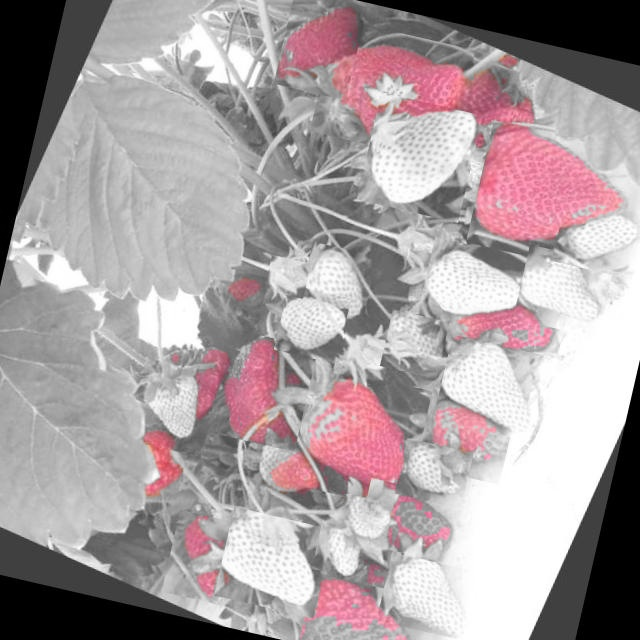ripe: (466, 118, 640, 275), (273, 360, 437, 510), (310, 18, 474, 163), (436, 276, 570, 384), (204, 328, 318, 452), (297, 572, 478, 640), (143, 333, 244, 434), (356, 478, 471, 564), (415, 388, 517, 484), (273, 0, 367, 100), (162, 509, 252, 607), (116, 417, 192, 504), (446, 57, 524, 124), (206, 265, 269, 320)
unripe: (357, 92, 482, 222), (214, 506, 333, 618), (433, 334, 548, 441), (417, 236, 531, 336), (376, 552, 487, 640), (512, 244, 614, 338), (126, 356, 220, 456), (551, 196, 640, 278), (298, 242, 378, 322), (274, 284, 351, 364), (394, 438, 474, 508), (379, 309, 449, 379), (334, 325, 399, 391), (310, 522, 370, 580), (334, 493, 394, 544), (264, 254, 310, 298)
